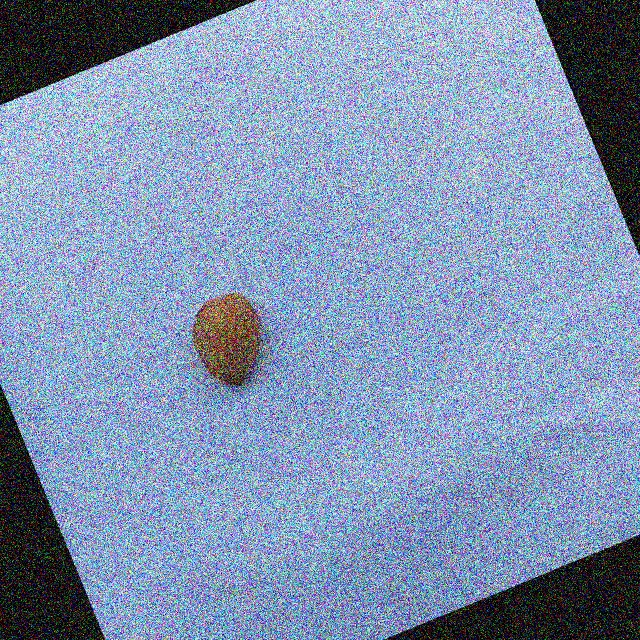grade2: (176, 280, 287, 400)
